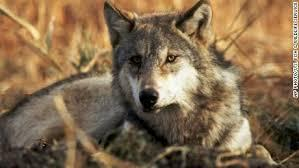Wolf: (0, 0, 281, 166)
